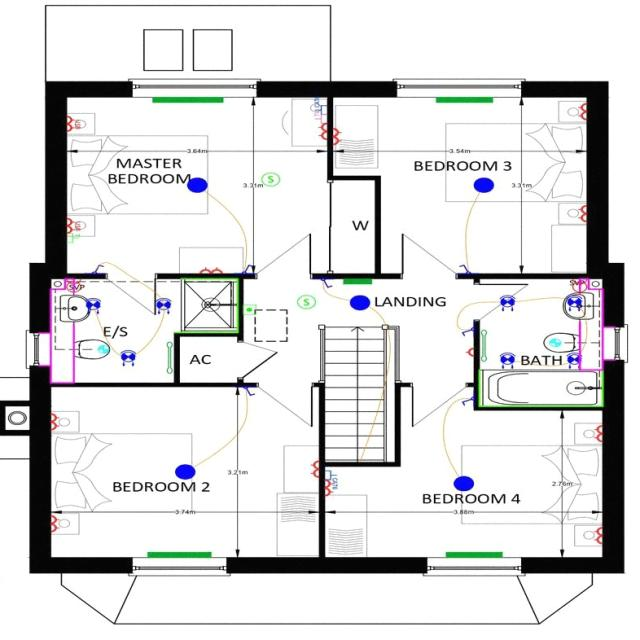Cat 6 Data Socket: (324, 470, 337, 489), (314, 96, 326, 114)
Ceiling Mounted Continuous Extract FanWith Boost Mode Activated By Light Switch: (549, 337, 560, 345), (98, 344, 108, 352)
Double Socket: (576, 102, 586, 120), (198, 265, 220, 273), (332, 128, 342, 144), (50, 515, 59, 532), (593, 425, 602, 441), (50, 413, 59, 429), (310, 460, 318, 477), (324, 479, 332, 496), (578, 204, 586, 221), (318, 123, 327, 138), (594, 527, 601, 542)
Full Height Tiling: (478, 370, 603, 406), (173, 278, 237, 331)
Light Switch: (461, 327, 473, 337), (241, 386, 254, 395), (462, 396, 473, 406), (458, 264, 471, 272), (242, 263, 252, 273), (321, 278, 331, 288), (92, 264, 103, 273)
Low Energy Downlighter: (119, 348, 137, 366), (499, 294, 515, 311), (498, 352, 515, 368), (85, 296, 100, 314), (155, 297, 170, 314), (567, 294, 581, 311), (566, 352, 580, 368)
Low Energy Pendant Light: (186, 176, 207, 192), (174, 463, 195, 479), (348, 294, 369, 309), (474, 177, 493, 192), (454, 476, 473, 491)
Mains Wired Smoke Detector: (260, 171, 279, 186), (297, 295, 315, 308)
Programmable Room Thermostat: (243, 304, 256, 314)
Radiator: (444, 551, 502, 558), (436, 96, 492, 103), (147, 551, 210, 557), (152, 97, 222, 102), (342, 278, 370, 285)
Shaver Socket: (64, 278, 82, 296), (570, 278, 586, 294)
Single Socket: (463, 347, 473, 357)
Telephone Socket: (314, 109, 326, 123), (66, 232, 79, 242)
USB Double Socket: (66, 217, 79, 232), (67, 115, 79, 131)
